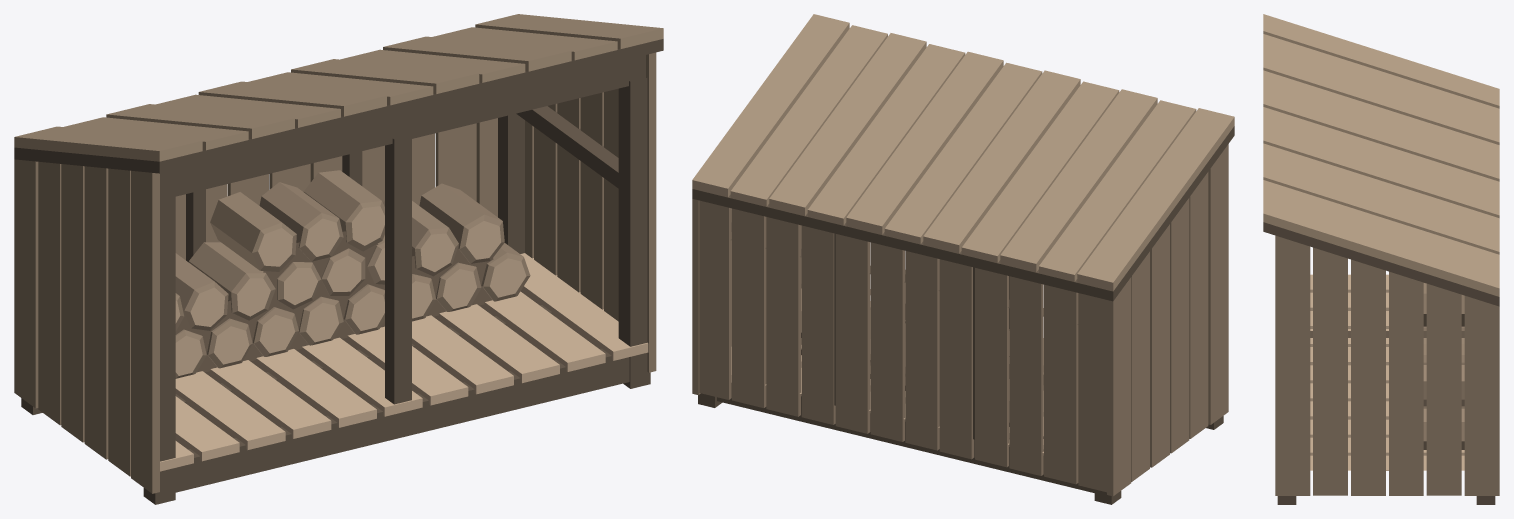
The model's file is open-woodshed-050a0a.glb.
3 views of the same model, side by side, from view 1: azimuth 30°, elevation 25°; view 2: azimuth 150°, elevation 25°; view 3: azimuth 270°, elevation 25° (orthographic). The views are drawn at different scales.
Parts seen in each view (by area): view 1: woodshed-shell, log-stack; view 2: woodshed-shell; view 3: woodshed-shell, log-stack.
Part boxes in pixels (left/top/right/bottom): woodshed-shell: left=14, top=14, right=663, bottom=504; log-stack: left=175, top=170, right=530, bottom=378; woodshed-shell: left=692, top=14, right=1234, bottom=504; woodshed-shell: left=1263, top=14, right=1499, bottom=504; log-stack: left=1423, top=283, right=1464, bottom=449.
Size of the model in its own units: 4 by 2.74 by 2.
